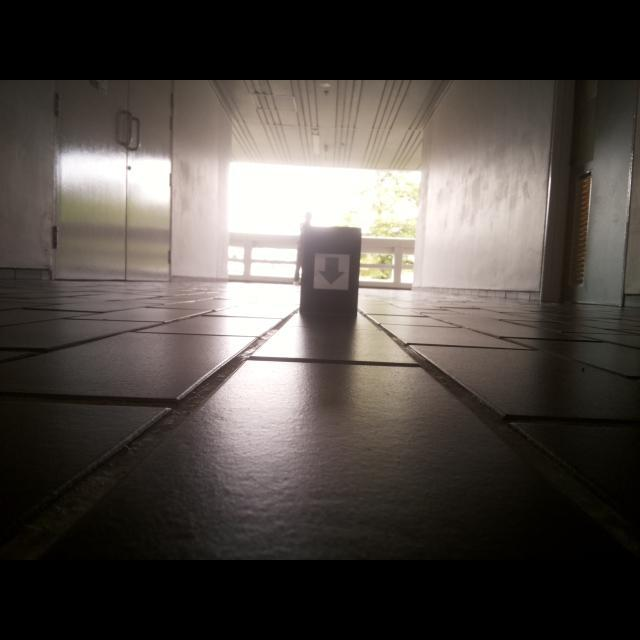DOWN: (317, 257, 345, 286)
